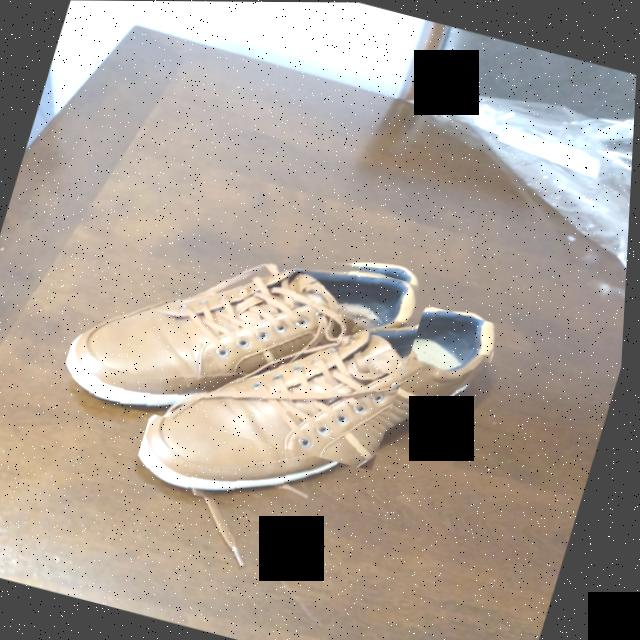shoe: (142, 310, 497, 496), (68, 263, 420, 410)
